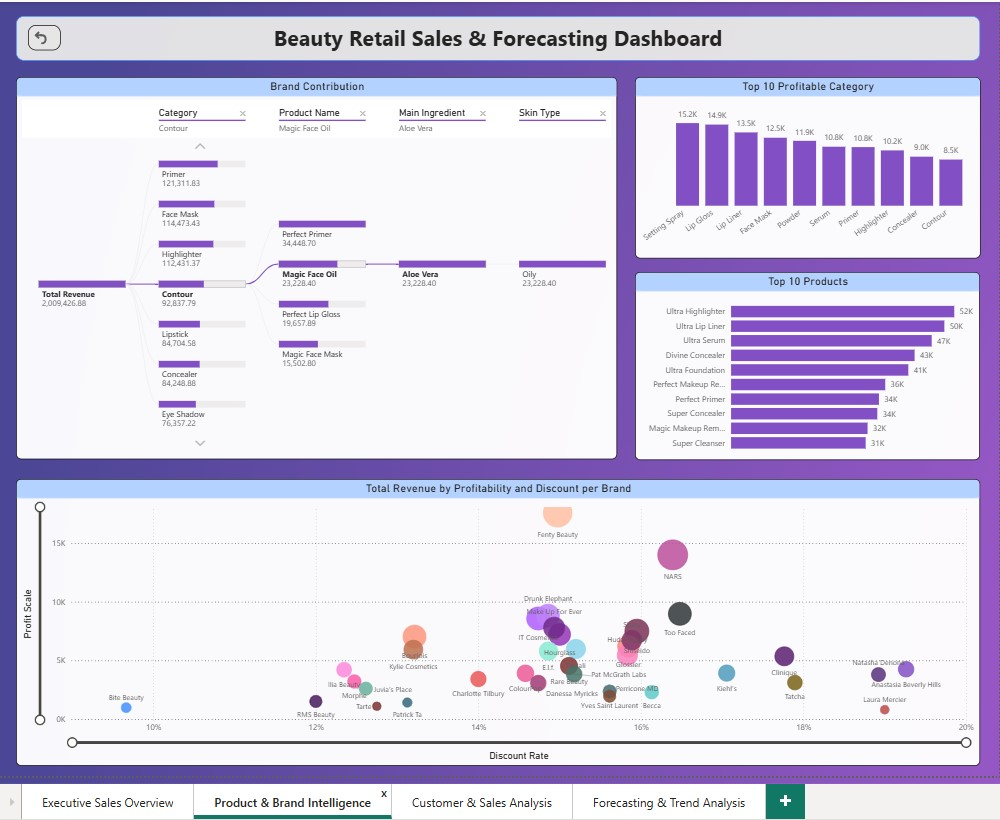

What the dashboard file says about the page in this screenshot:
{"tool":"powerbi","page":{"name":"Product & Brand Intelligence","canvas":[1500,1160],"ordinal":1},"visuals":[{"type":"textbox","box":[26,21.4,1445,67.2],"z":0},{"type":"barChart","title":"Top 10 Products","fields":{"Category":["Retail_Dim_Table.Product_Name"],"Y":["Retail_Fact_Table.TOTAL_Revenue"]},"box":[953.2,404.7,517.1,281.8],"z":1000},{"type":"columnChart","title":"Top 10 Profitable Category","fields":{"Category":["Retail_Dim_Table.Category"],"Y":["Retail_Fact_Table.TOTAL_Profit"]},"box":[953.2,113,517.8,271.9],"z":2000},{"type":"scatterChart","title":"Total Revenue by Profitability and Discount per Brand","fields":{"X":["Retail_Fact_Table.AVG_Discount"],"Size":["Retail_Fact_Table.TOTAL_Revenue"],"Y":["Retail_Fact_Table.TOTAL_Profit"],"Series":["Retail_Dim_Table.Brand"],"Category":["Retail_Dim_Table.Brand"]},"box":[25.5,714.9,1444.8,430.1],"z":3000},{"type":"decompositionTreeVisual","title":"Brand Contribution","fields":{"ExplainBy":["Retail_Dim_Table.Category","Retail_Dim_Table.Product_Name","Retail_Dim_Table.Main_Ingredient","Retail_Dim_Table.Skin_Type"],"Analyze":["Retail_Fact_Table.TOTAL_Revenue"]},"box":[26,113,901.2,572.8],"z":4000},{"type":"actionButton","box":[42.8,35.1,48.9,38.2],"z":4001}]}

Visuals, with their boxes on the page's 1500x1160 design canvas (x1, y1, x2, y2). These are canvas units, not pixel positions in the 1000x820 screenshot, which may show the page scaled, cropped or inside an application window:
textbox: 26 21 1471 89
"Top 10 Products" barChart: 953 405 1470 686
"Top 10 Profitable Category" columnChart: 953 113 1471 385
"Total Revenue by Profitability and Discount per Brand" scatterChart: 26 715 1470 1145
"Brand Contribution" decompositionTreeVisual: 26 113 927 686
actionButton: 43 35 92 73
